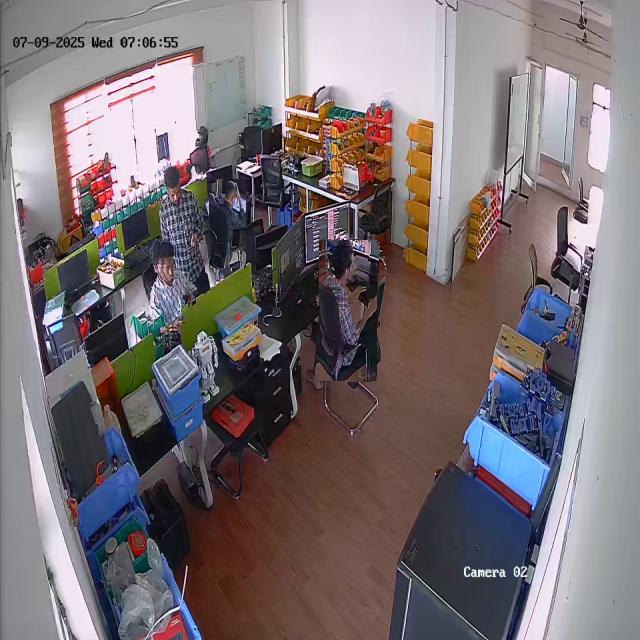person: (317, 240, 379, 382), (157, 165, 208, 295), (139, 237, 192, 328), (210, 179, 246, 268)
